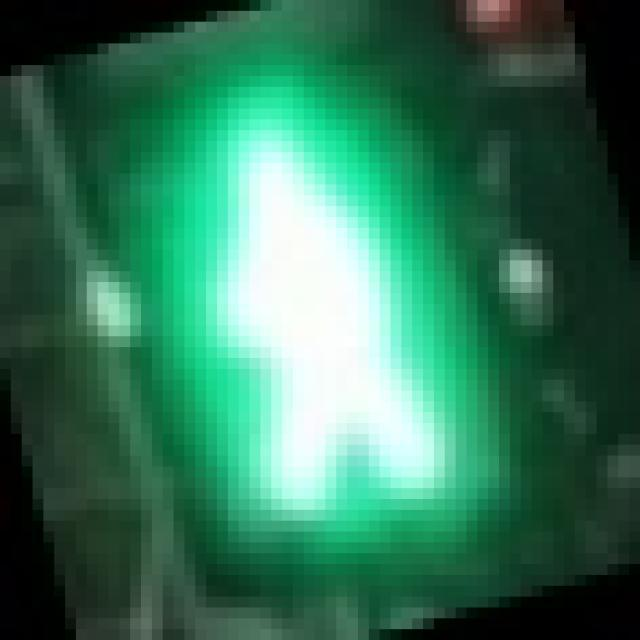green_light: (120, 65, 478, 542)
